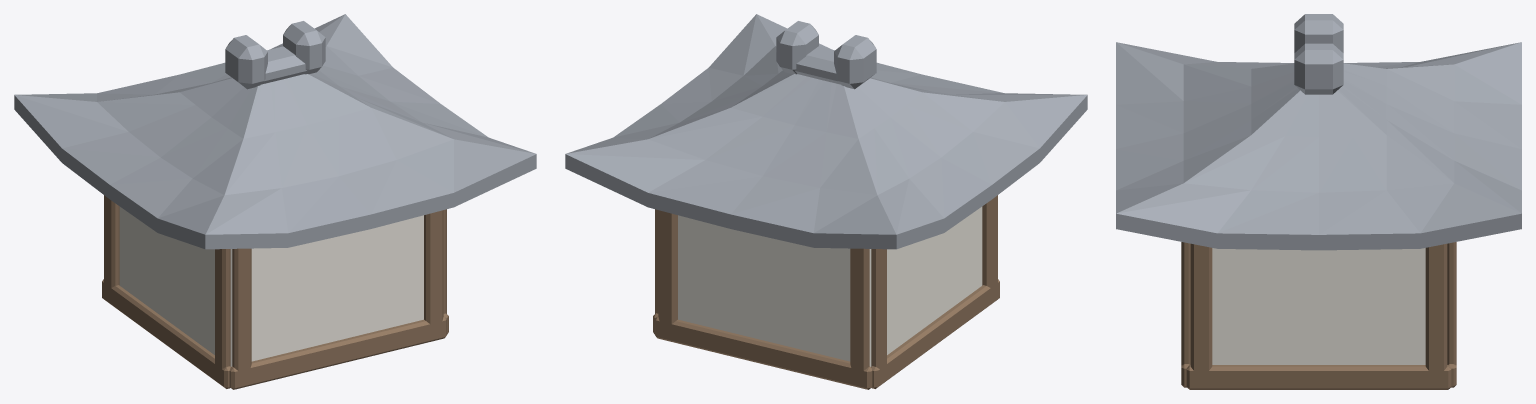
The model's file is feudal-japan-castle-town-pagoda-middle-tier-92085bfd__26395.glb.
3 renders of one model, left to right at view 1: azimuth 30°, elevation 25°; view 2: azimuth 150°, elevation 25°; view 3: azimuth 270°, elevation 25°, orthographic. The views are drawn at different scales.
Visible parts, largest first — view 1: pagoda-middle-tier; view 2: pagoda-middle-tier; view 3: pagoda-middle-tier.
Part boxes in pixels (left/top/right/bottom): pagoda-middle-tier: left=14, top=14, right=536, bottom=389; pagoda-middle-tier: left=565, top=14, right=1087, bottom=389; pagoda-middle-tier: left=1116, top=14, right=1521, bottom=389.
Bounding box in the file's own units: 3.8 × 3.11 × 3.8.
